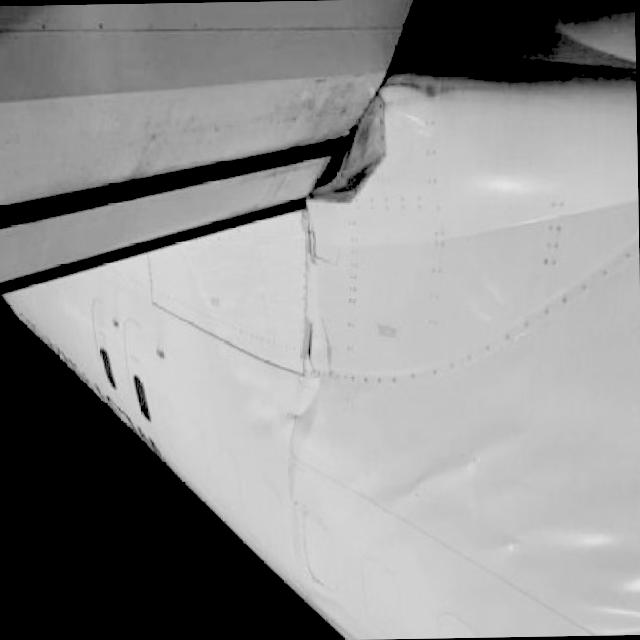dent: (373, 446, 518, 551), (241, 376, 320, 450), (524, 522, 634, 566), (291, 294, 338, 378), (576, 572, 640, 633), (472, 177, 552, 215)
